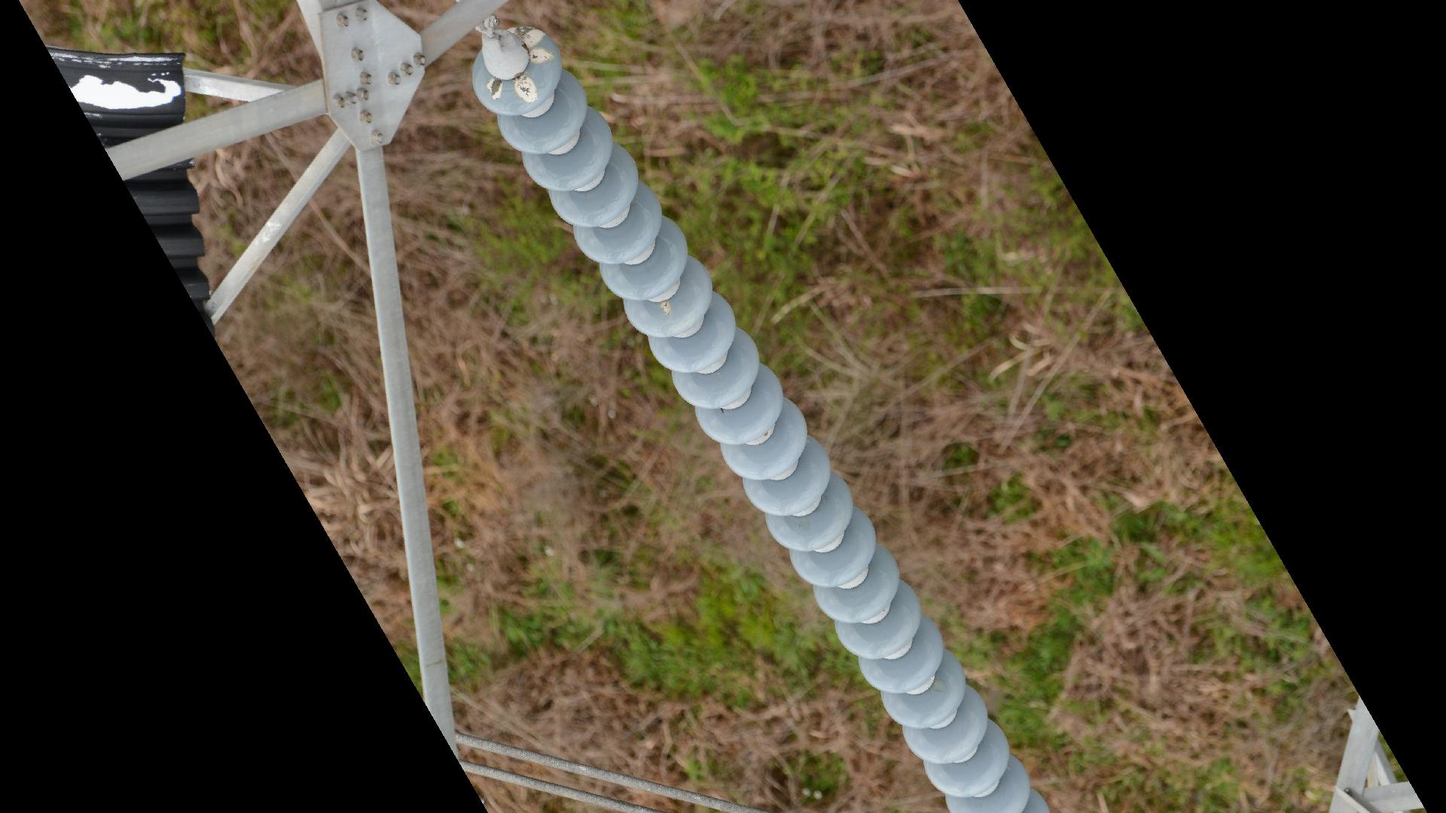insulator: (467, 18, 1054, 813)
insulator_flashover: (505, 23, 554, 66), (512, 73, 540, 105), (484, 75, 505, 102)
